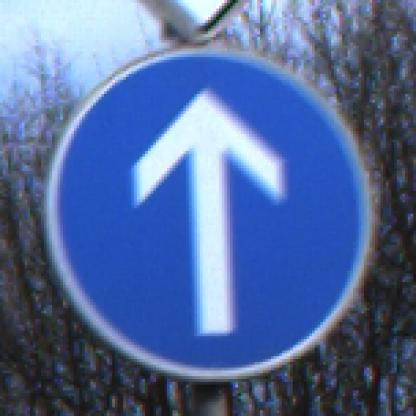AheadOnly: (40, 38, 382, 383)
